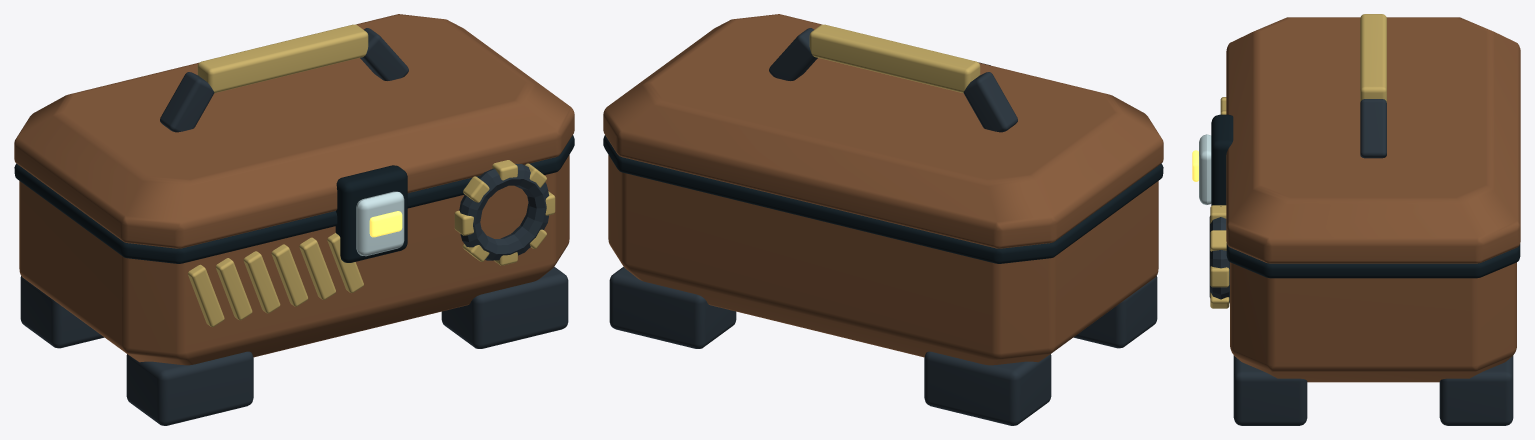
File: salvage_cache.glb
3 views of the same model, side by side, from view 1: azimuth 30°, elevation 25°; view 2: azimuth 150°, elevation 25°; view 3: azimuth 270°, elevation 25° (orthographic). The views are drawn at different scales.
Parts seen in each view (by area): view 1: Salvager tool crib; view 2: Salvager tool crib; view 3: Salvager tool crib.
Part boxes in pixels (box(x1,y1,x2,y2)): Salvager tool crib: box(14, 14, 574, 425); Salvager tool crib: box(603, 14, 1163, 425); Salvager tool crib: box(1192, 14, 1520, 425).
Bounding box in the file's own units: 1.38 × 0.8265 × 0.893.
